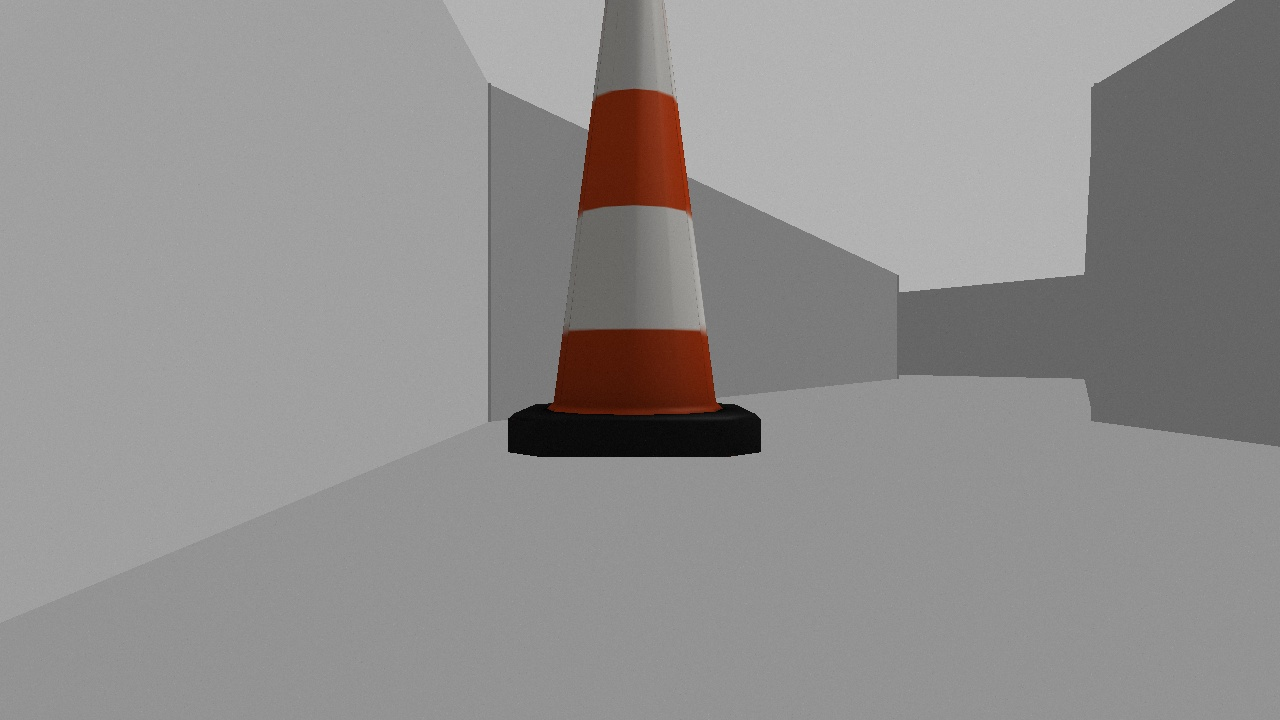barricade: (489, 1, 784, 467)
